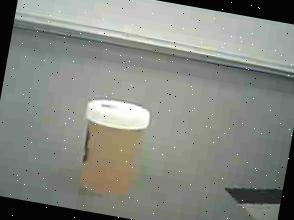Bottle B: (59, 88, 162, 210)
